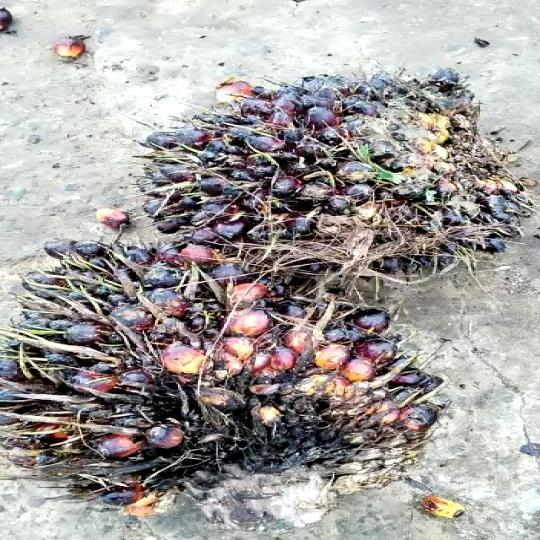kurang masak: (0, 225, 431, 516), (111, 53, 512, 279)
